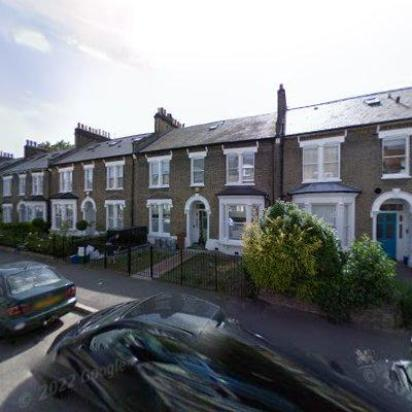stationary-car-onstreet: (52, 286, 408, 410), (0, 259, 78, 341)
